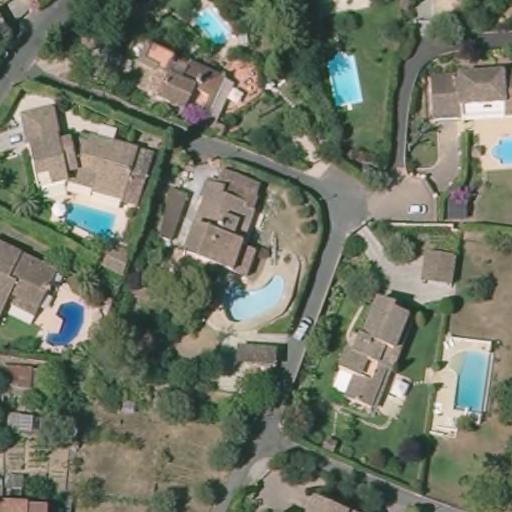pool: (436, 336, 494, 421), (219, 272, 286, 326), (320, 49, 368, 111), (55, 200, 115, 244), (40, 298, 87, 349), (186, 0, 235, 47), (491, 129, 511, 167)
